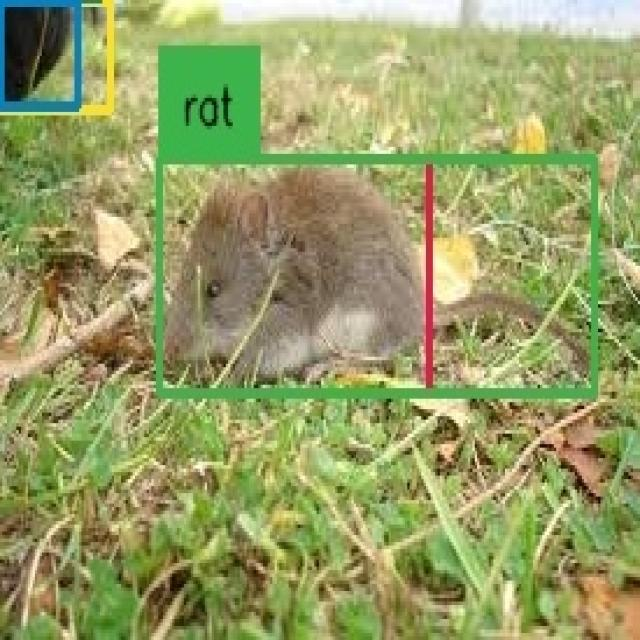rat: (160, 159, 594, 394), (160, 159, 430, 394), (1, 0, 110, 108), (0, 0, 79, 108)
